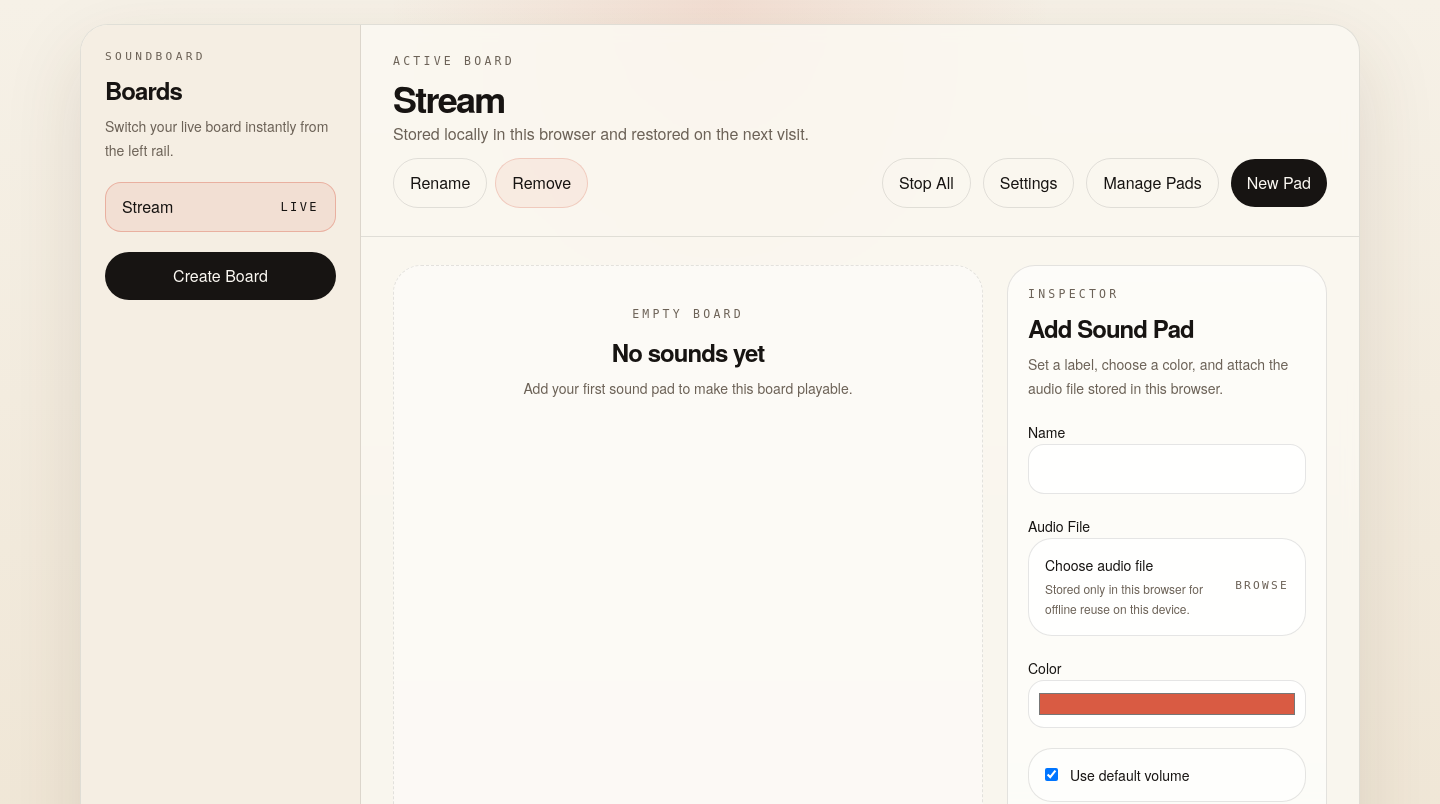
it: SoundboardApp › renames an existing board inline from the sidebar
The image size is (1440, 804).
Click the button with aria-label "rename stream": (440, 183) 393,158 -> 487,208
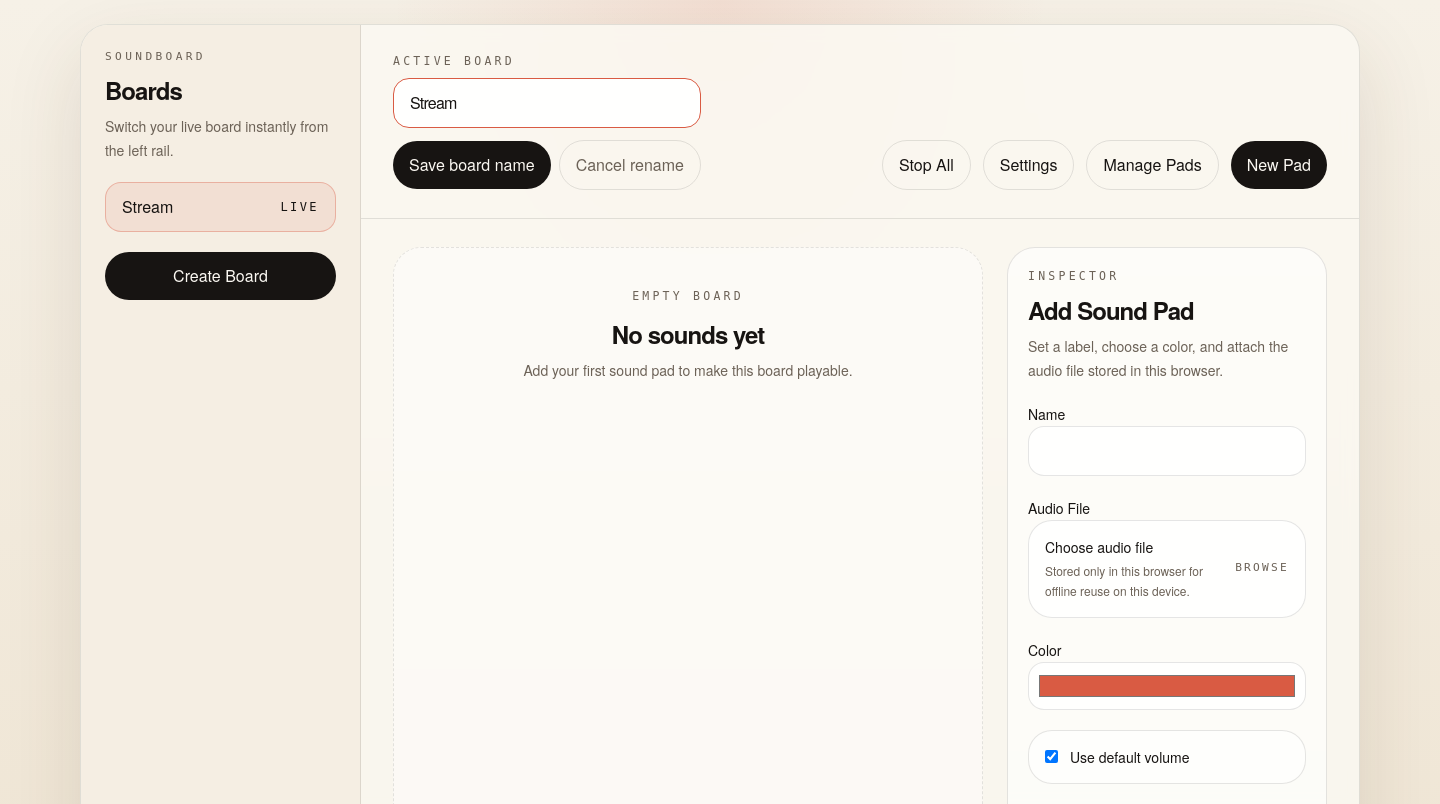
Replace the text in the field named "board name" with "Studio": (547, 103) 393,78 -> 701,128
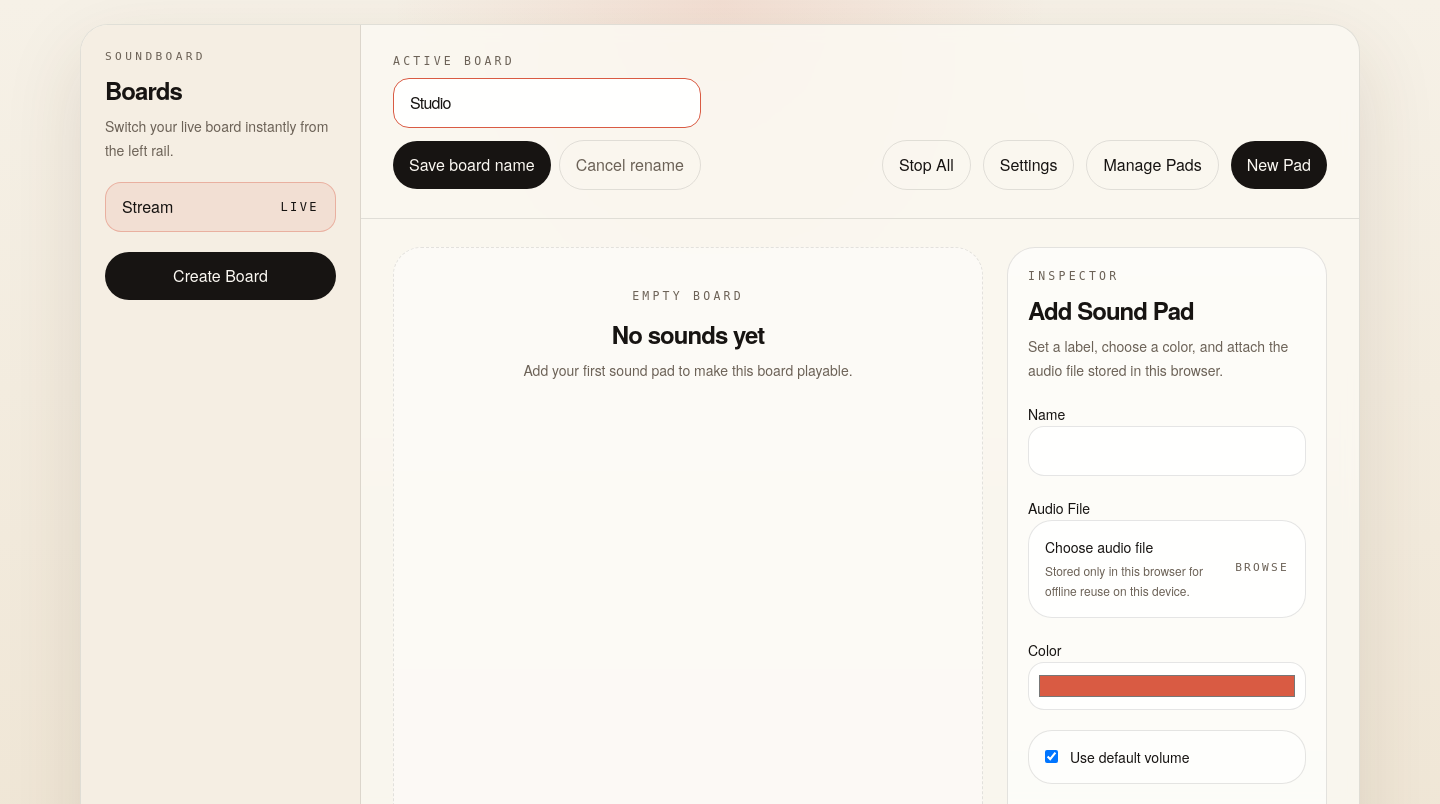
Click the button "Save board name": (472, 165) 393,141 -> 551,189
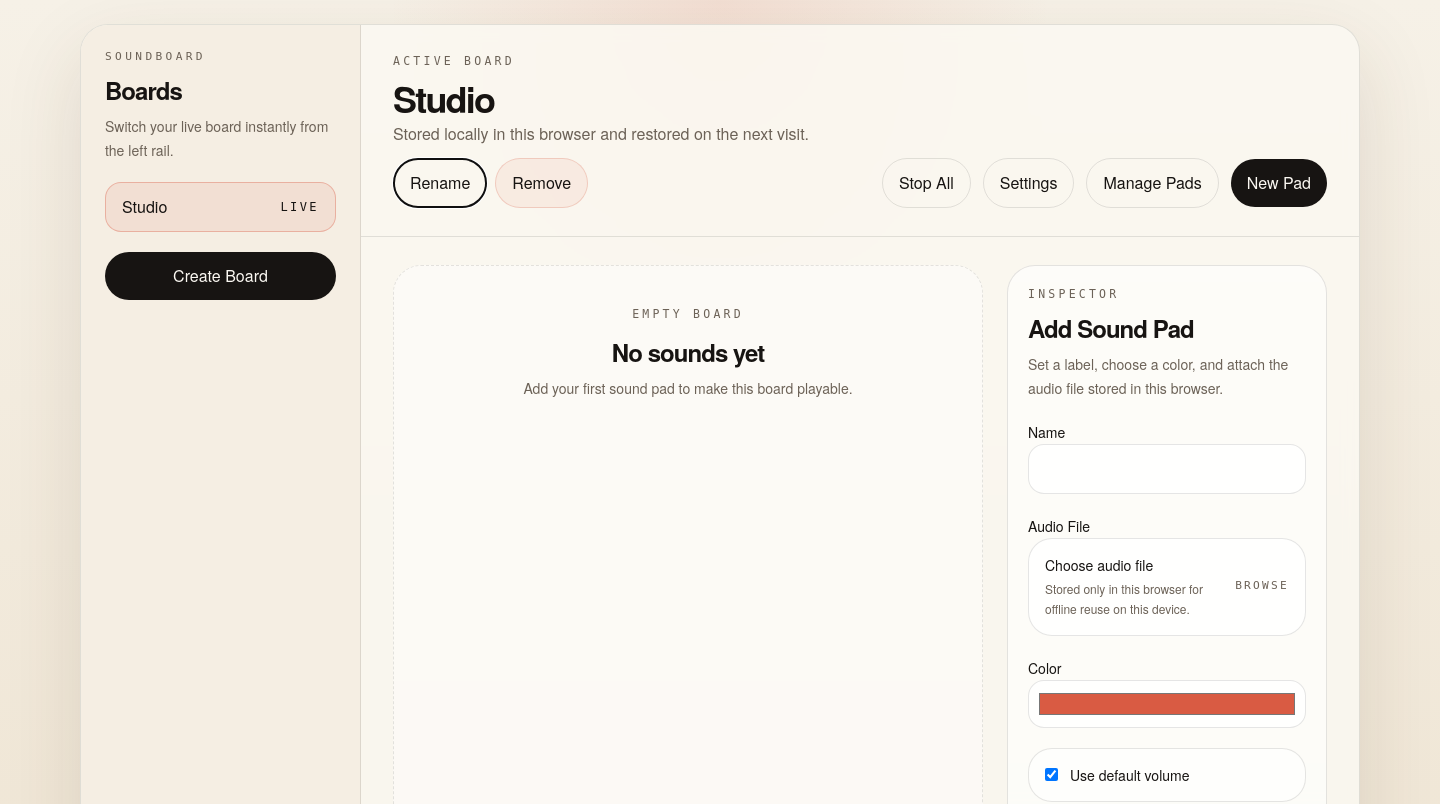
Result: the heading "Studio" is shown at 393,72 -> 494,124
Result: the button "Studio Live" is shown at 105,182 -> 336,232
